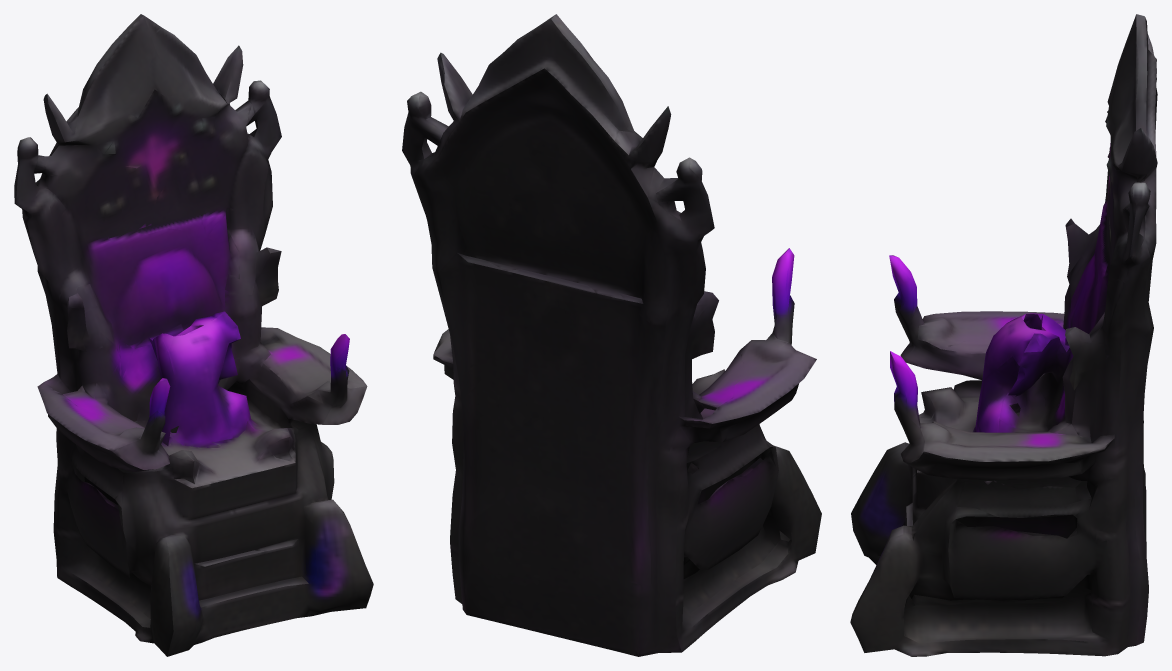
Rendered from eclipse-dark-throne.glb.
3 views of the same model, side by side, from view 1: azimuth 30°, elevation 25°; view 2: azimuth 150°, elevation 25°; view 3: azimuth 270°, elevation 25° (orthographic). The views are drawn at different scales.
Visible parts, largest first — view 1: a-single-monumental-dark-king-throne-tall_optimized; view 2: a-single-monumental-dark-king-throne-tall_optimized; view 3: a-single-monumental-dark-king-throne-tall_optimized.
Part boxes in pixels (bbox=[...]): a-single-monumental-dark-king-throne-tall_optimized: bbox=[14, 14, 373, 656]; a-single-monumental-dark-king-throne-tall_optimized: bbox=[402, 14, 821, 656]; a-single-monumental-dark-king-throne-tall_optimized: bbox=[850, 14, 1157, 656].
Size of the model in its own units: 0.5408 by 1 by 0.4727.
Materials: 1 (1 with a texture image).
